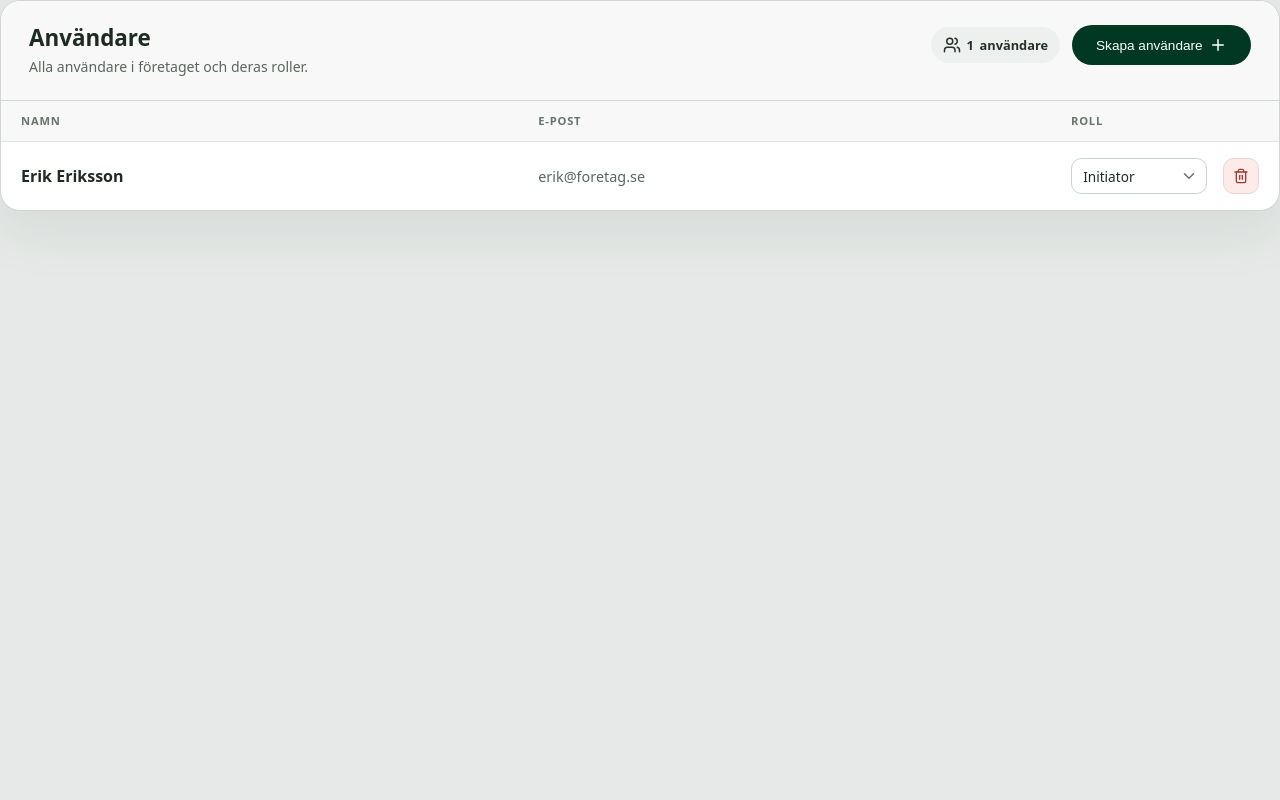
Test: UserList › opens the create modal from the button
This screenshot has width=1280, height=800.
Check: the text "Erik Eriksson" is shown, box [1, 142, 518, 210]
Click the button "Skapa användare". click: (1162, 45)
box: [1072, 25, 1251, 65]
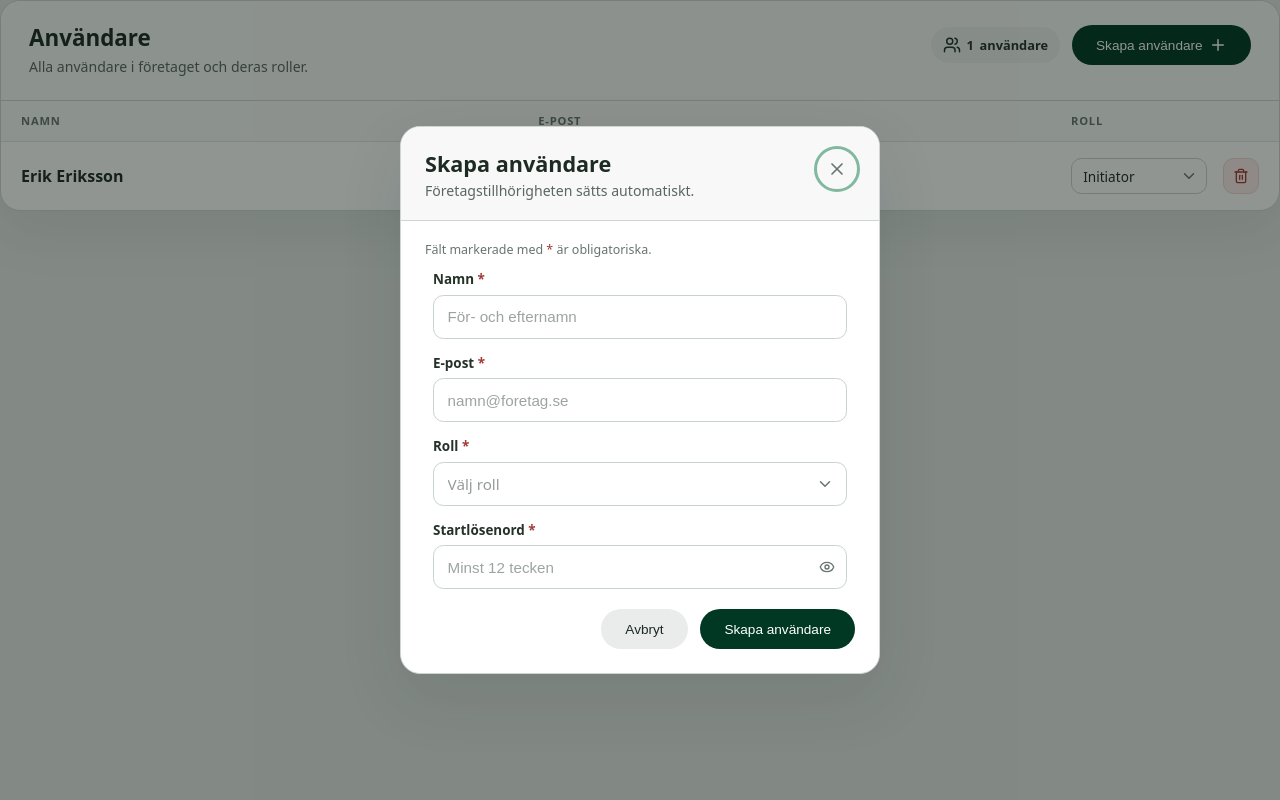
Check: the heading "Skapa användare" is shown, box [425, 149, 611, 178]
